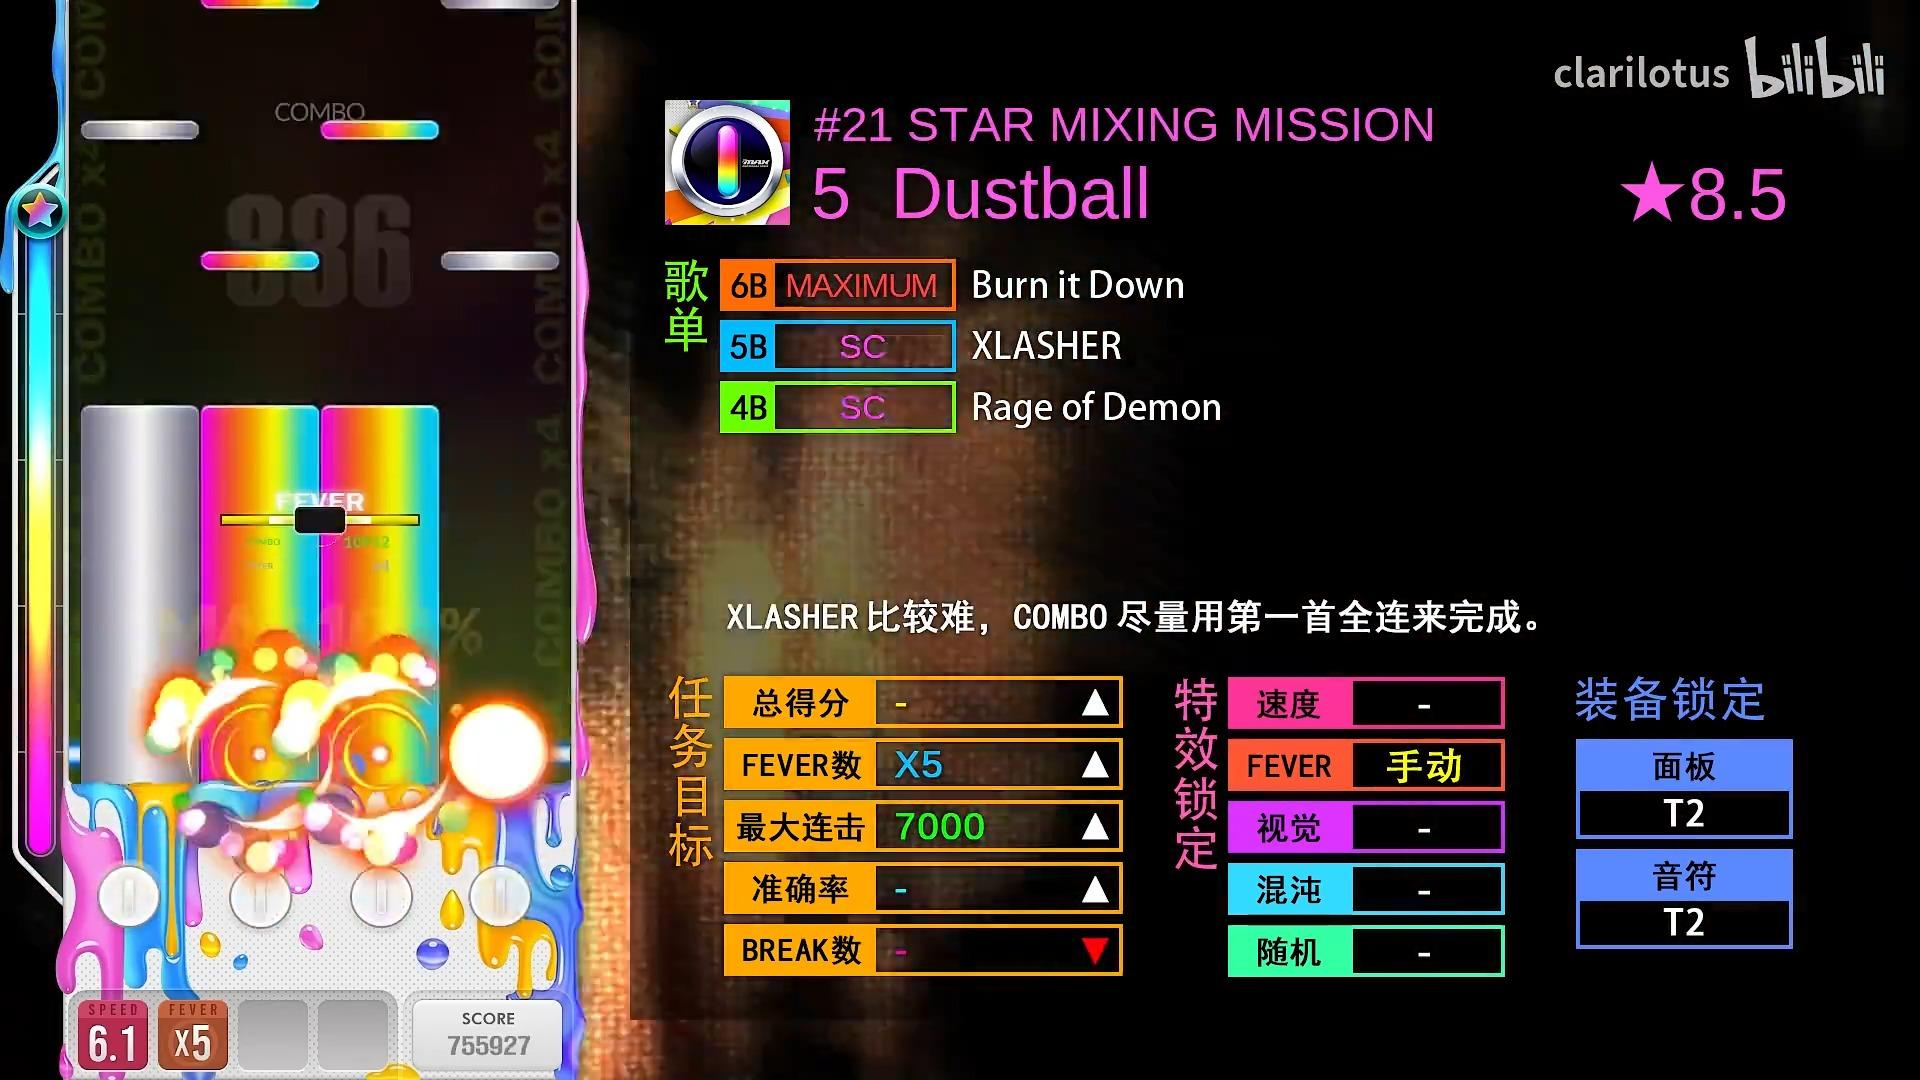hold-end: (319, 404, 440, 425), (79, 404, 199, 425), (199, 405, 320, 423)
note: (319, 119, 439, 141), (200, 251, 319, 272), (440, 251, 558, 272), (82, 120, 199, 140)
